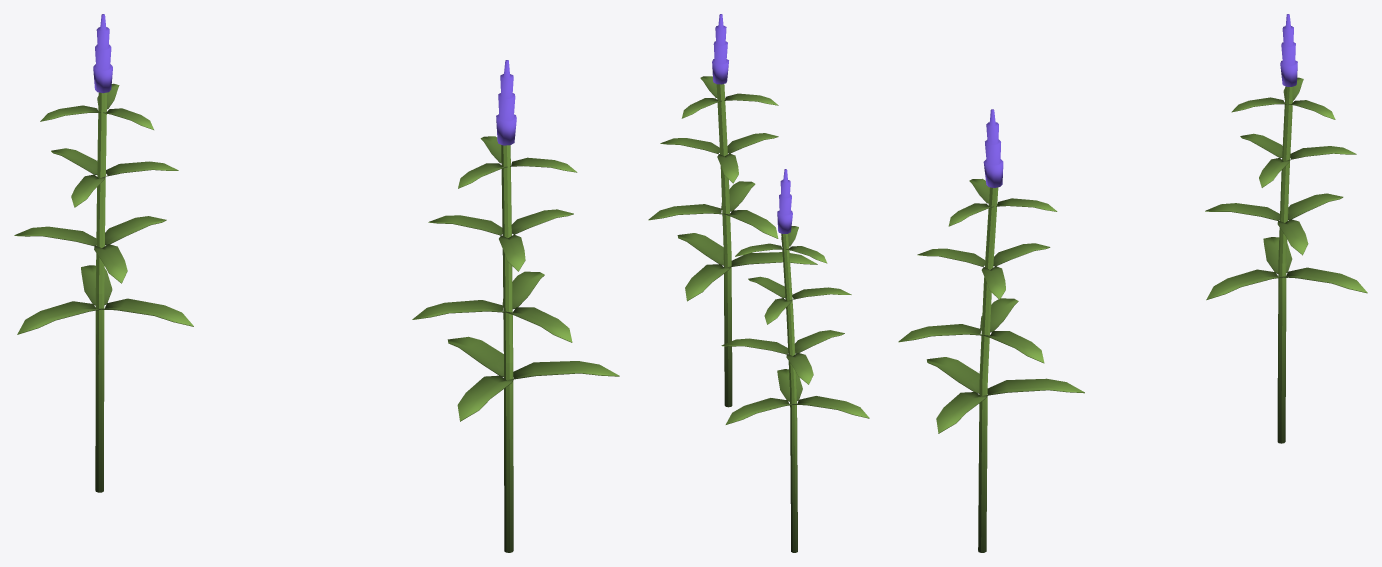
Rendered from rantakukka_pieni.fbx.
3 renders of one model, left to right at view 1: azimuth 30°, elevation 25°; view 2: azimuth 150°, elevation 25°; view 3: azimuth 270°, elevation 25°, orthographic. The views are drawn at different scales.
Parts seen in each view (by area): view 1: rantakukka_pieni; view 2: rantakukka_pieni; view 3: rantakukka_pieni.
Part boxes in pixels (box(x1,y1,x2,y2)): rantakukka_pieni: box(14, 14, 619, 552); rantakukka_pieni: box(648, 14, 869, 552); rantakukka_pieni: box(898, 14, 1367, 552).
Size of the model in its own units: 1.39 by 1.45 by 1.31.
